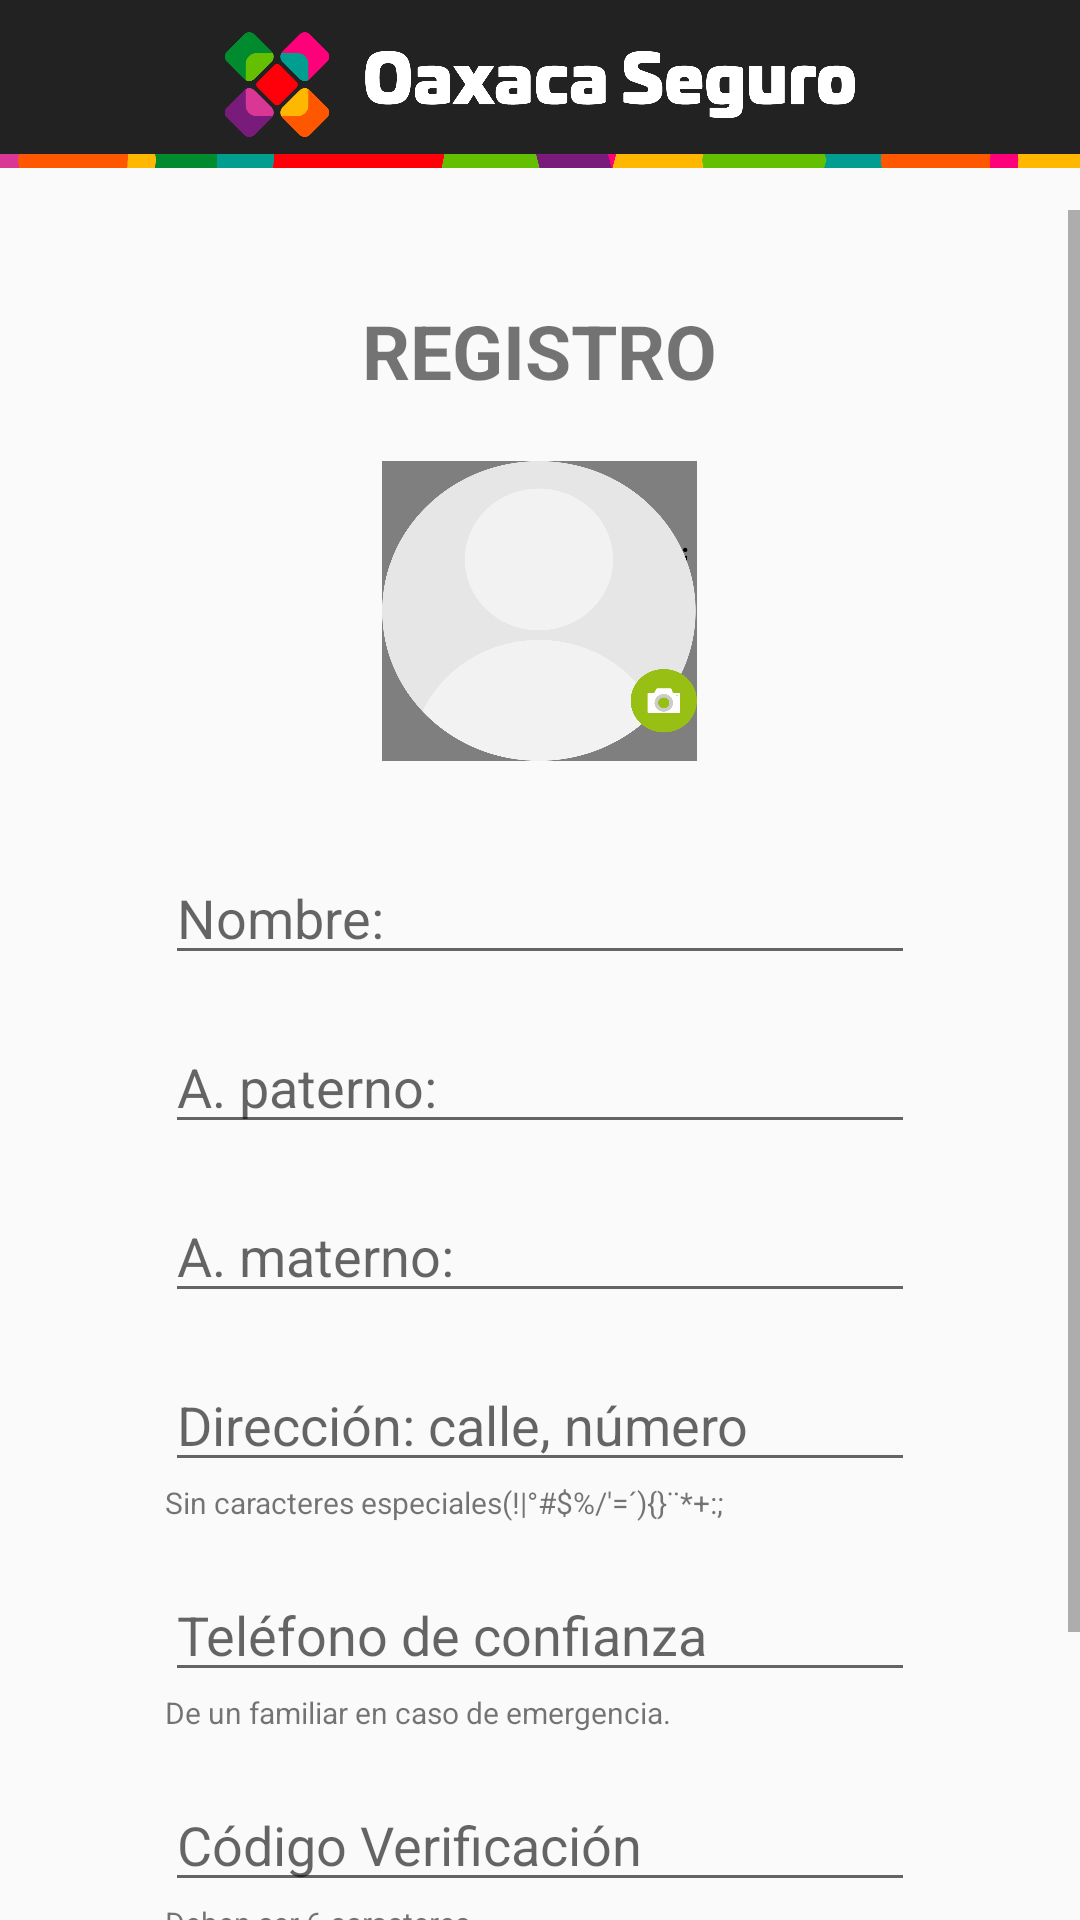

Icons on this 1080×1920 Android screen, each with its box as bbox=[x1, y1, x2, y2]:
perfil: bbox=[382, 461, 697, 761]
